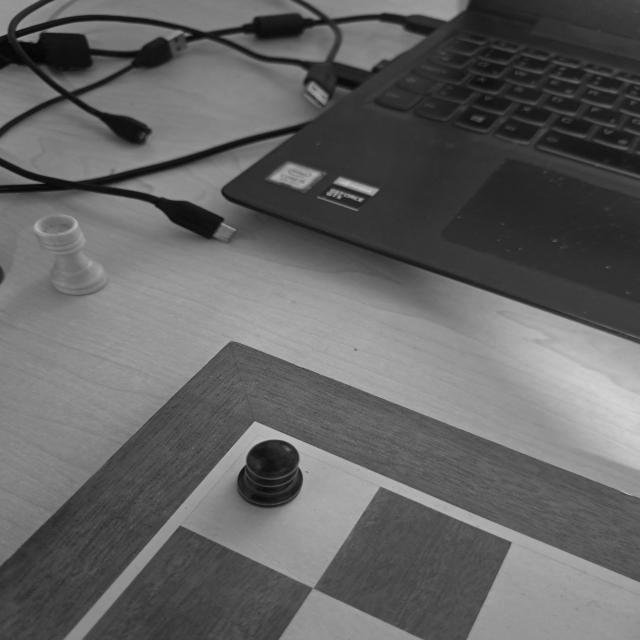chess-table-corners: (218, 412, 298, 458)
